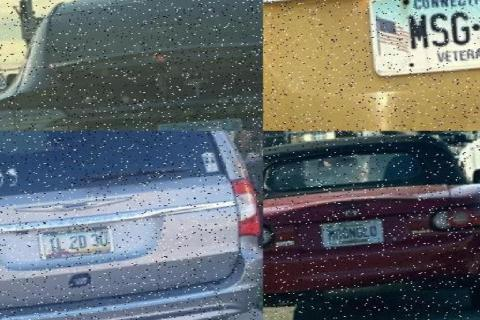LicensePlate: (370, 0, 478, 76), (42, 223, 120, 258), (325, 216, 388, 246), (161, 115, 248, 130)
